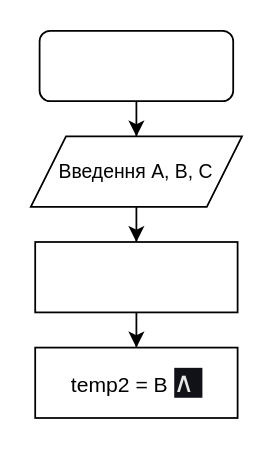
The diagram is 273 pixels wide and 449 high, and some of its shapes have lost their labels. The shapes that lost their labels are listed below. From the top down, each one's centre as x and y in pixels, then its label:
At point 135,65: "Початок".
At point 135,276: "temp1 = A \ B".
